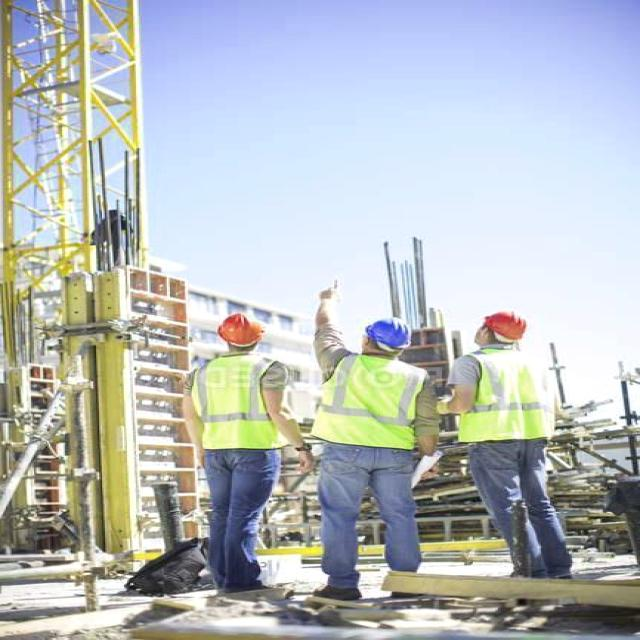hand_noglove: (309, 280, 353, 311)
head_helmet: (358, 318, 415, 351), (479, 313, 536, 343), (217, 315, 268, 347)
person: (309, 317, 432, 593), (461, 315, 559, 579), (201, 315, 282, 586)
vest: (316, 364, 423, 442), (195, 357, 274, 445), (467, 356, 545, 444)
